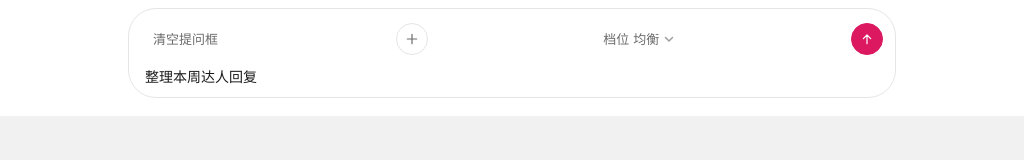
Scenario: ComposerDock draft clear › clears ordinary text and restores editor focus
expect the text box named "发消息或创建任务" holds "整理本周达人回复": met, box [143, 65, 883, 89]
What coordinates should you click on to do the following:
click the button "清空提问框"
I would click on:
 (186, 39)
Its box is [145, 25, 226, 53].
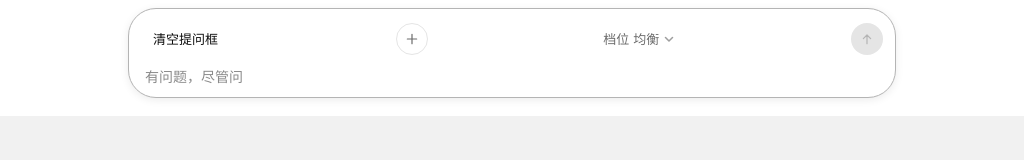
expect the text box with placeholder "有问题，尽管问" is empty: met, box [143, 65, 883, 89]
expect the button "清空提问框" is disabled: met, box [145, 25, 226, 53]
